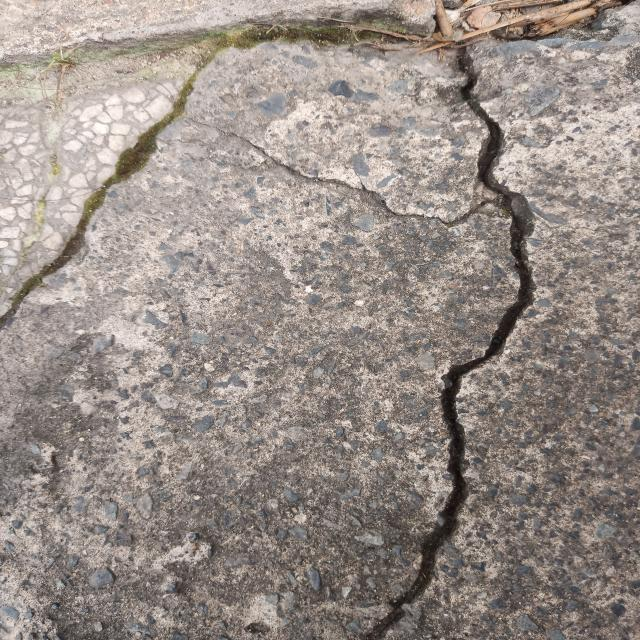branched cracks: (0, 46, 534, 639)
